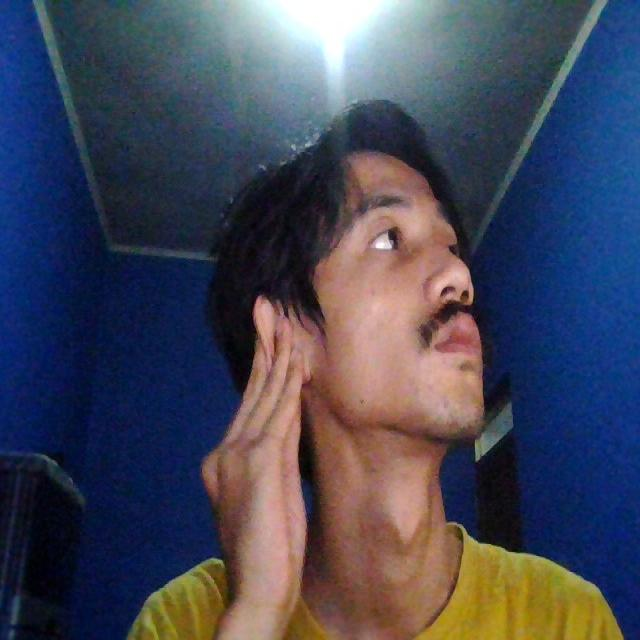melihat kekiri: (188, 130, 502, 502)
movement: (176, 290, 329, 578)
